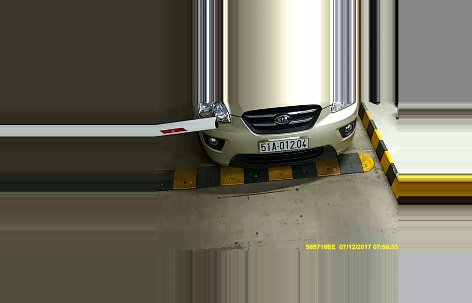plate: (257, 138, 307, 153)
